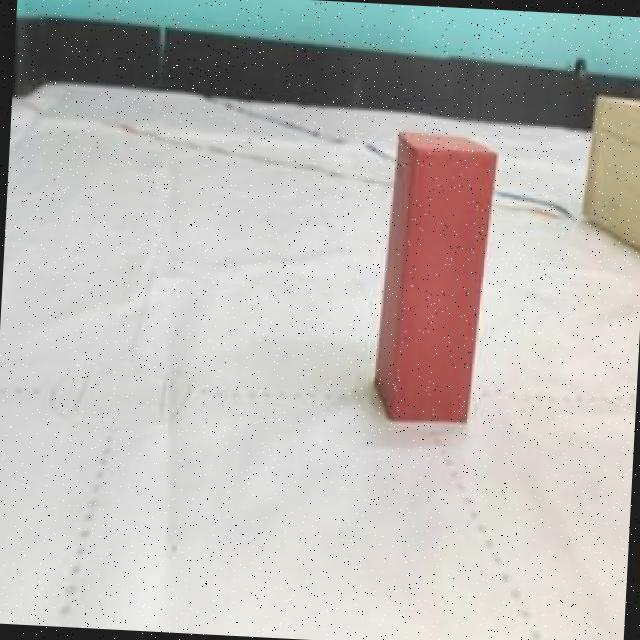redbox: (371, 128, 500, 424)
